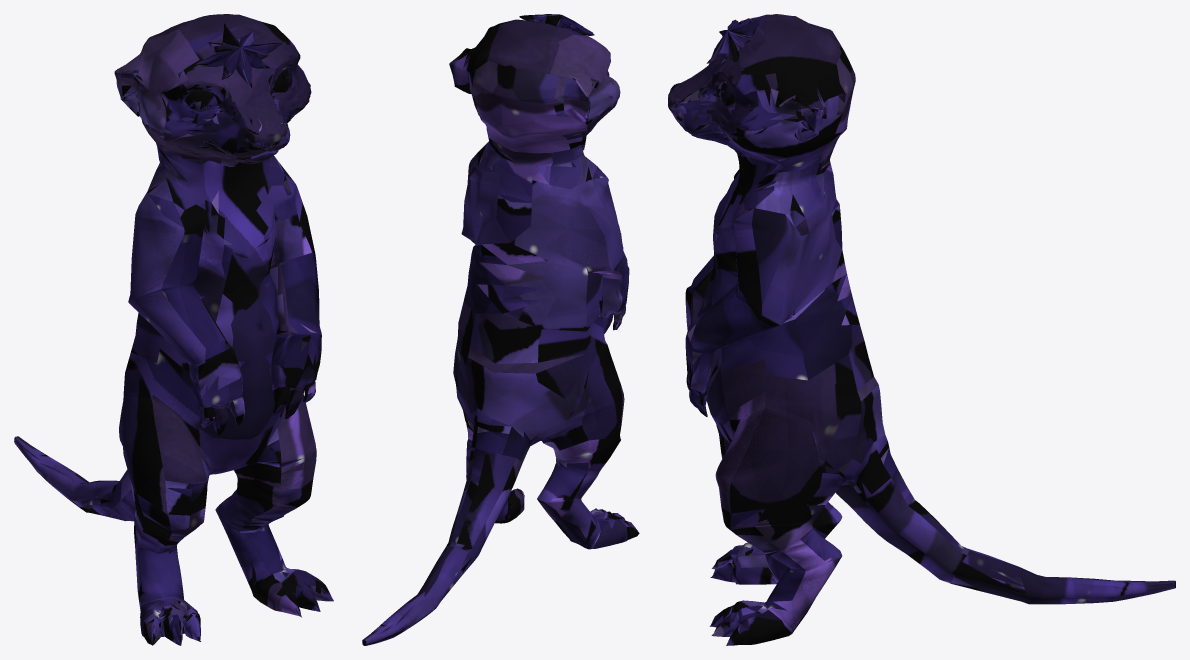
File: creature_meerkat_star.fbx
3 views of the same model, side by side, from view 1: azimuth 30°, elevation 25°; view 2: azimuth 150°, elevation 25°; view 3: azimuth 270°, elevation 25° (orthographic). The views are drawn at different scales.
Parts seen in each view (by area): view 1: creature_meerkat_star_body, creature_meerkat_star_head, creature_meerkat_star_leg_fr, creature_meerkat_star_leg_fl, creature_meerkat_star_leg_br, creature_meerkat_star_leg_bl, creature_meerkat_star_tail; view 2: creature_meerkat_star_body, creature_meerkat_star_head, creature_meerkat_star_leg_fr, creature_meerkat_star_leg_br, creature_meerkat_star_leg_fl, creature_meerkat_star_tail, creature_meerkat_star_leg_bl; view 3: creature_meerkat_star_body, creature_meerkat_star_leg_fl, creature_meerkat_star_head, creature_meerkat_star_leg_bl, creature_meerkat_star_tail, creature_meerkat_star_leg_br, creature_meerkat_star_leg_fr.
Part boxes in pixels (left/top/right/bottom): creature_meerkat_star_body: left=119, top=148, right=321, bottom=515; creature_meerkat_star_head: left=114, top=14, right=311, bottom=167; creature_meerkat_star_leg_fr: left=128, top=191, right=244, bottom=392; creature_meerkat_star_leg_fl: left=251, top=163, right=321, bottom=369; creature_meerkat_star_leg_br: left=97, top=469, right=205, bottom=645; creature_meerkat_star_leg_bl: left=215, top=470, right=333, bottom=617; creature_meerkat_star_tail: left=14, top=436, right=119, bottom=516; creature_meerkat_star_body: left=453, top=134, right=627, bottom=460; creature_meerkat_star_head: left=449, top=14, right=620, bottom=153; creature_meerkat_star_leg_fr: left=503, top=166, right=629, bottom=331; creature_meerkat_star_leg_br: left=454, top=423, right=639, bottom=576; creature_meerkat_star_leg_fl: left=461, top=153, right=509, bottom=313; creature_meerkat_star_tail: left=362, top=546, right=471, bottom=645; creature_meerkat_star_leg_bl: left=446, top=410, right=524, bottom=546; creature_meerkat_star_body: left=686, top=149, right=896, bottom=522; creature_meerkat_star_leg_fl: left=685, top=184, right=859, bottom=380; creature_meerkat_star_head: left=668, top=14, right=855, bottom=175; creature_meerkat_star_leg_bl: left=709, top=468, right=988, bottom=645; creature_meerkat_star_tail: left=955, top=548, right=1175, bottom=604; creature_meerkat_star_leg_br: left=710, top=454, right=968, bottom=584; creature_meerkat_star_leg_fr: left=685, top=169, right=739, bottom=326.
Size of the model in its own units: 242 by 746 by 589.
1 material, 1 textured.
